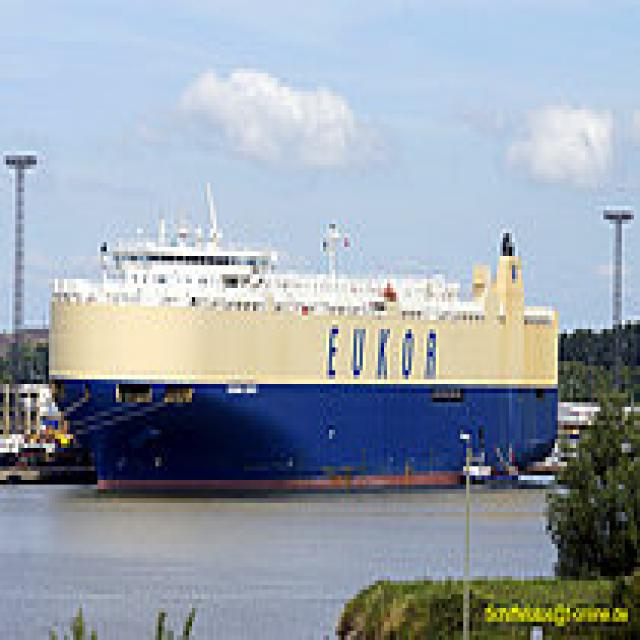Carrier: (39, 174, 560, 489)
